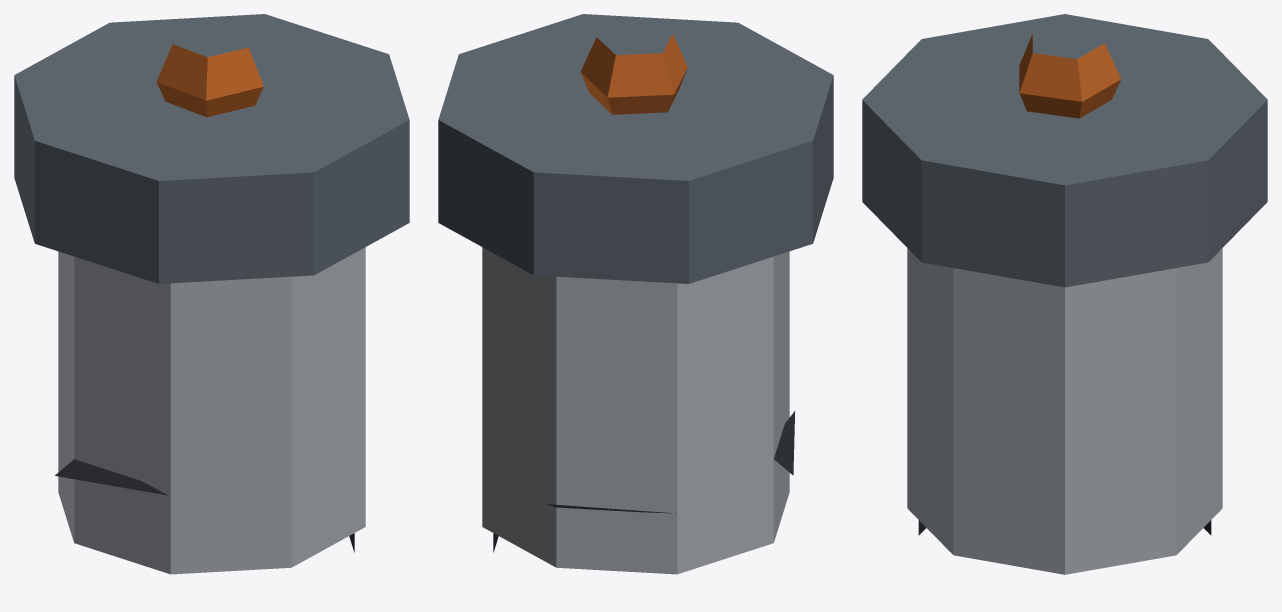
Rendered from restraining-bolt.lod.glb.
The picture shows the model from 3 angles, left to right: view 1: azimuth 30°, elevation 25°; view 2: azimuth 150°, elevation 25°; view 3: azimuth 270°, elevation 25°; orthographic projection.
Visible parts, largest first — view 1: m; view 2: m; view 3: m.
Part boxes in pixels (left/top/right/bottom): m: left=14, top=14, right=409, bottom=574; m: left=438, top=14, right=833, bottom=574; m: left=862, top=14, right=1267, bottom=574.
Bounding box in the file's own units: 0.0362 × 0.0485 × 0.0362.
